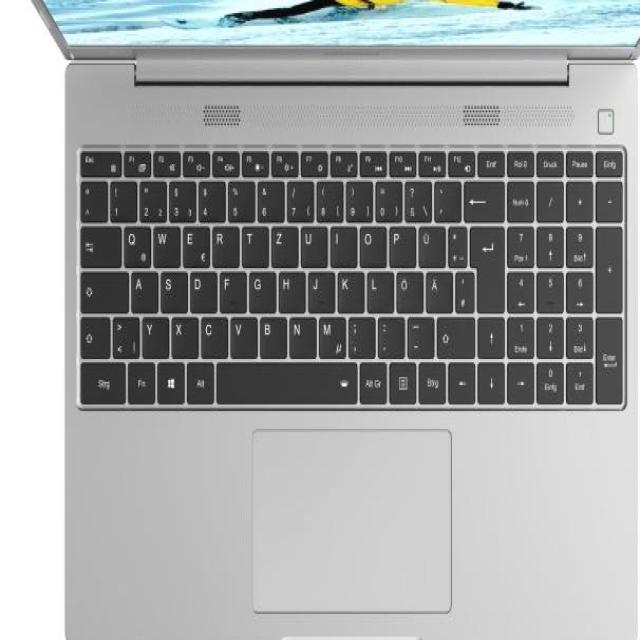0: (372, 176, 399, 218)
1: (107, 176, 134, 220)
2: (136, 176, 164, 220)
3: (165, 174, 193, 218)
4: (195, 174, 223, 218)
5: (224, 174, 252, 218)
6: (254, 174, 281, 218)
7: (284, 176, 311, 220)
8: (313, 176, 340, 218)
9: (342, 174, 370, 218)
a: (127, 265, 154, 309)
accent: (430, 174, 458, 218)
ae: (421, 265, 449, 309)
alt-left: (183, 356, 212, 401)
altgr-right: (356, 356, 384, 400)
b: (256, 310, 285, 354)
c: (197, 310, 225, 354)
caret: (76, 176, 104, 218)
comma: (344, 310, 372, 354)
d: (186, 265, 214, 309)
del: (460, 174, 502, 218)
e: (178, 219, 207, 263)
enter: (467, 219, 502, 309)
f: (216, 265, 243, 309)
g: (245, 265, 272, 309)
h: (275, 265, 302, 309)
hash: (451, 265, 472, 309)
i: (326, 219, 354, 263)
j: (305, 265, 332, 309)
k: (334, 265, 361, 309)
keyboard: (70, 132, 631, 413)
l: (363, 265, 390, 309)
less: (109, 310, 137, 356)
m: (315, 310, 343, 354)
minus: (403, 310, 431, 354)
n: (285, 310, 314, 356)
o: (355, 219, 383, 263)
oe: (393, 265, 420, 309)
p: (385, 219, 413, 263)
plus: (445, 219, 465, 263)
point: (374, 310, 401, 354)
q: (119, 219, 148, 263)
r: (208, 219, 237, 263)
s: (156, 265, 184, 309)
shift-left: (76, 310, 107, 356)
shift-lock: (76, 265, 126, 309)
shift-right: (433, 310, 472, 356)
space: (213, 356, 355, 403)
ss: (401, 176, 429, 218)
strg-left: (75, 356, 124, 401)
strg-right: (415, 356, 444, 401)
t: (239, 219, 265, 263)
tab: (77, 219, 117, 263)
u: (297, 219, 324, 263)
ue: (414, 219, 443, 263)
v: (226, 310, 255, 354)
w: (149, 219, 177, 263)
x: (168, 310, 195, 354)
y: (138, 310, 166, 354)
z: (267, 219, 295, 263)
